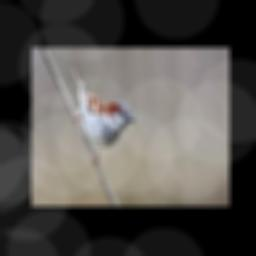Sparrow: (70, 66, 135, 165)
